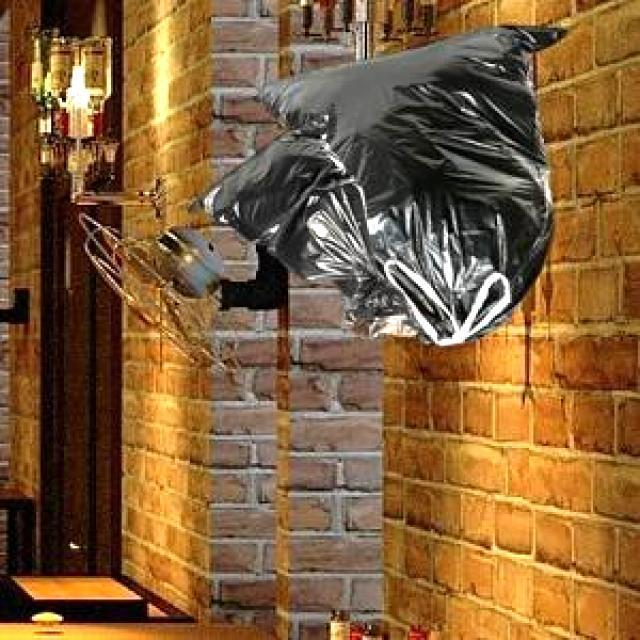Bolsa-de-nilon: (208, 24, 567, 349)
